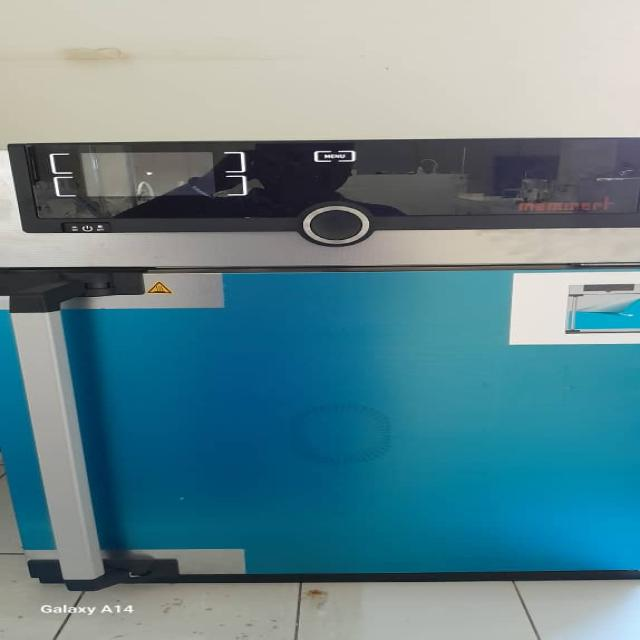Incubator: (9, 138, 640, 584)
